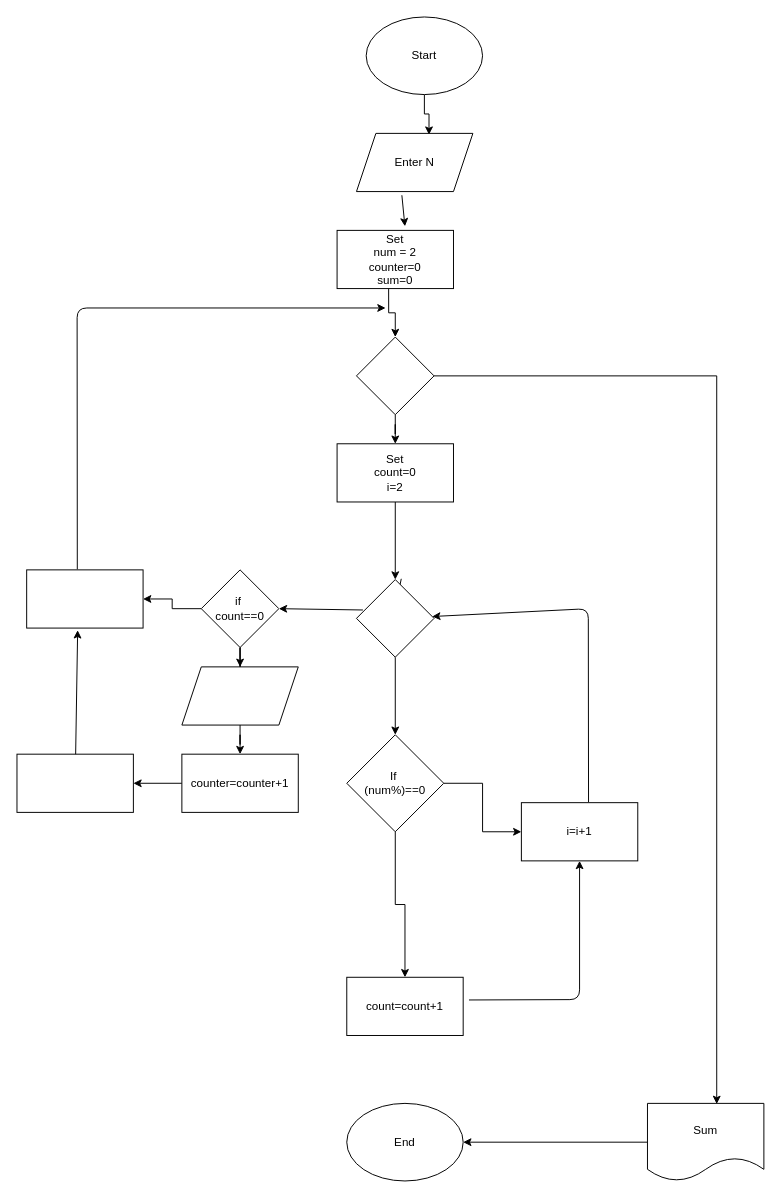
This 781x1198 diagram has some shape labels left out. Each missing label, with the centre of its shape:
counter<N: (395,375)
If i<=num/2: (395,618)
num=num+1: (84,598)
Print num: (239,695)
Sum=sum+num: (74,782)
